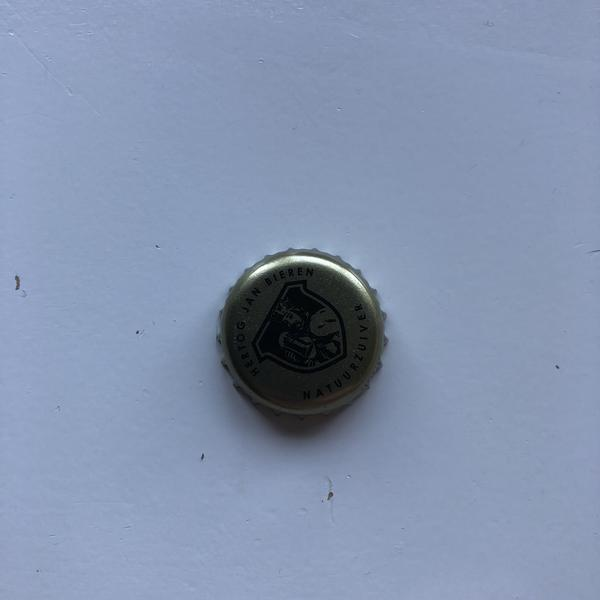hertogjan: (217, 242, 391, 435)
